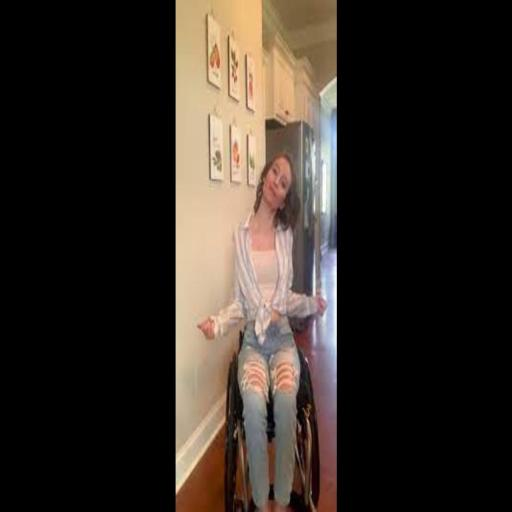cadeira_de_rodas: (209, 141, 326, 512)
